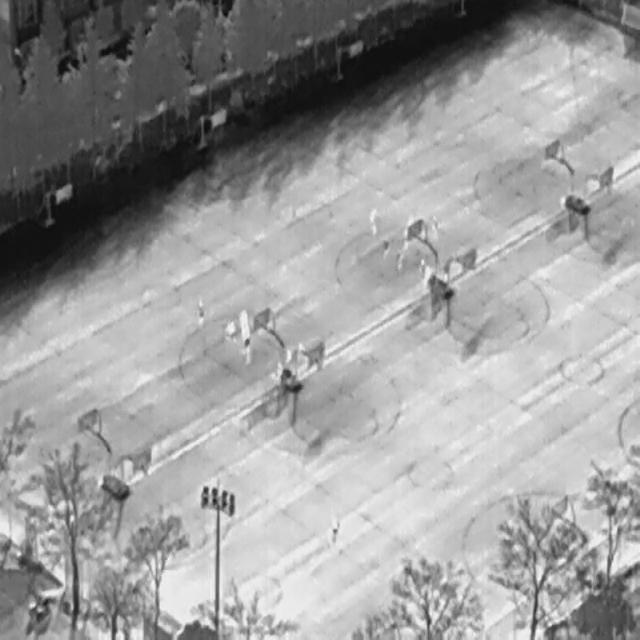Person: (369, 206, 379, 235), (239, 306, 248, 334), (330, 518, 339, 546), (196, 296, 204, 326), (241, 332, 249, 362), (284, 344, 292, 370), (417, 255, 425, 279), (383, 232, 390, 258), (431, 211, 438, 235), (395, 246, 402, 269), (401, 224, 407, 250), (228, 319, 235, 339), (425, 264, 432, 284), (224, 319, 230, 341)
